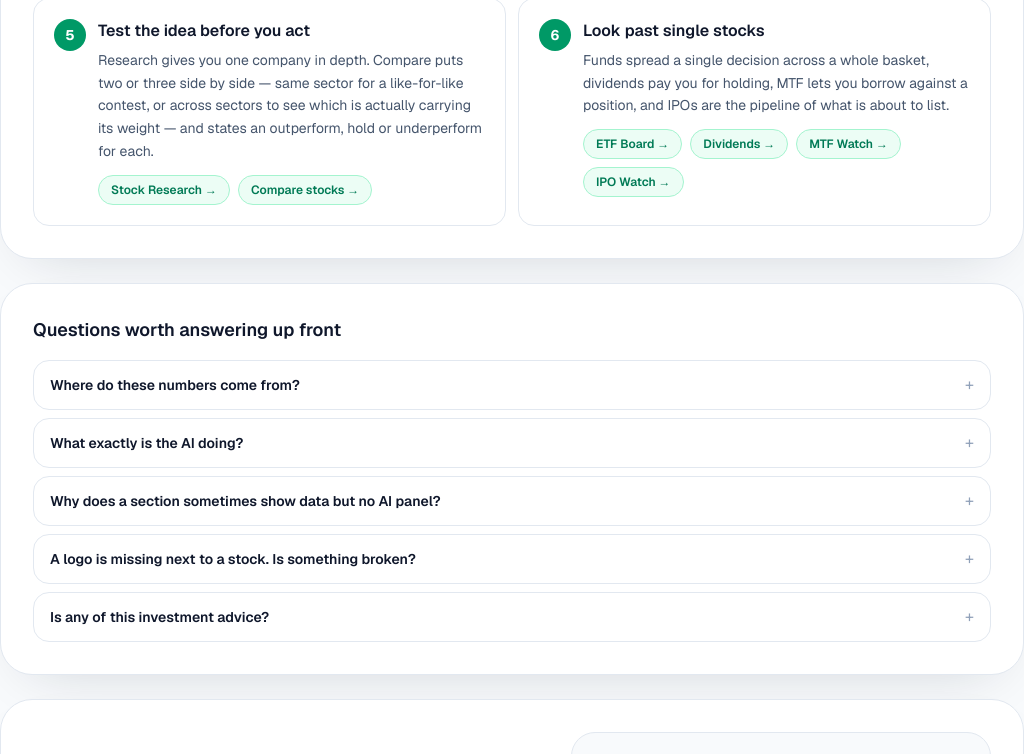
it: GettingStarted › keeps every FAQ answer closed until it is asked for
(page scrolled)
Click the button "Where do these numbers come from? +" at (175, 384), box [34,360,990,408]
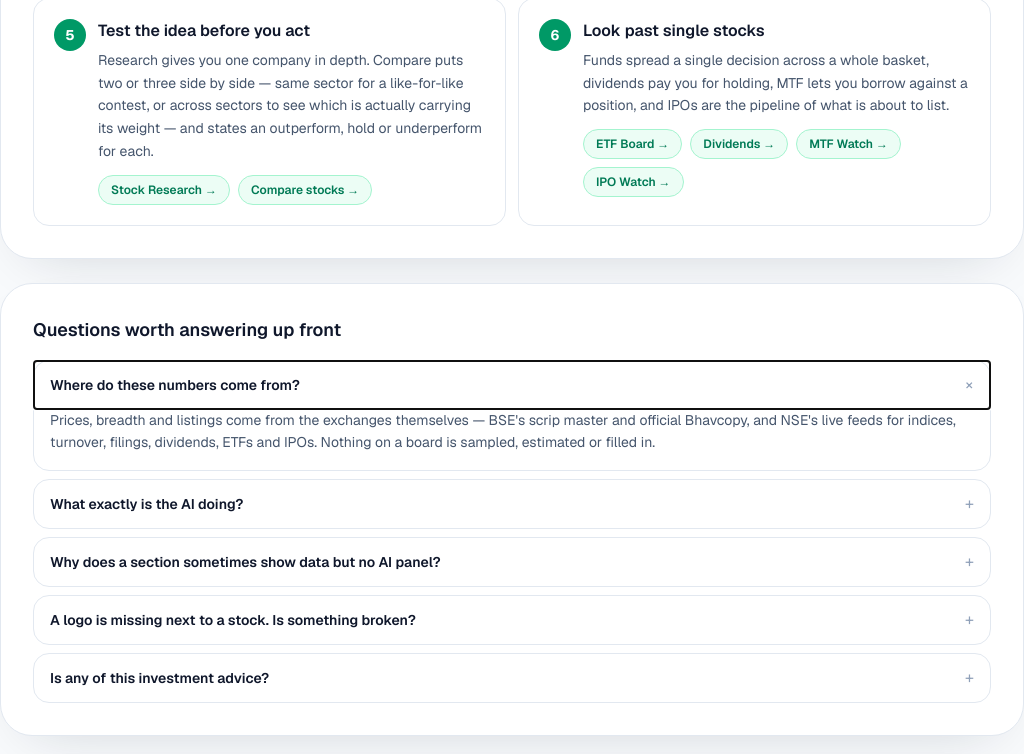
Expected: the button "Where do these numbers come from? +" is expanded
Expected: the text "BSE's scrip master and official Bhavcopy" is shown, [50,410,956,451]
Click the button "Where do these numbers come from? +" at (175, 384), box [34,360,990,408]
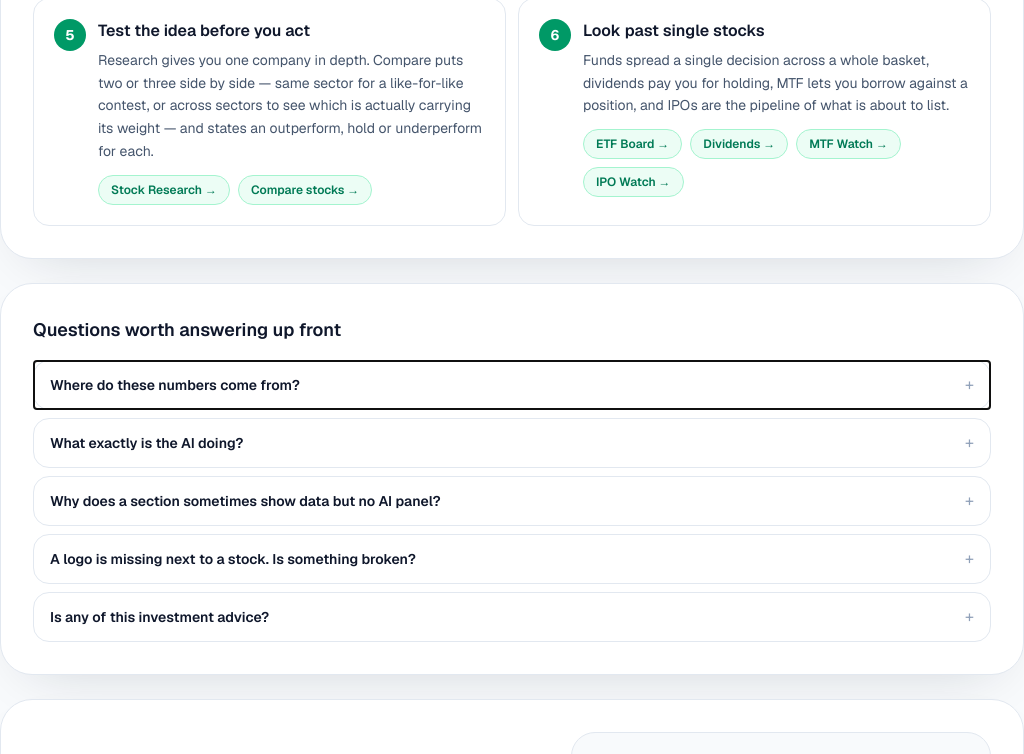
Expected: the text "BSE's scrip master and official Bhavcopy" is gone
